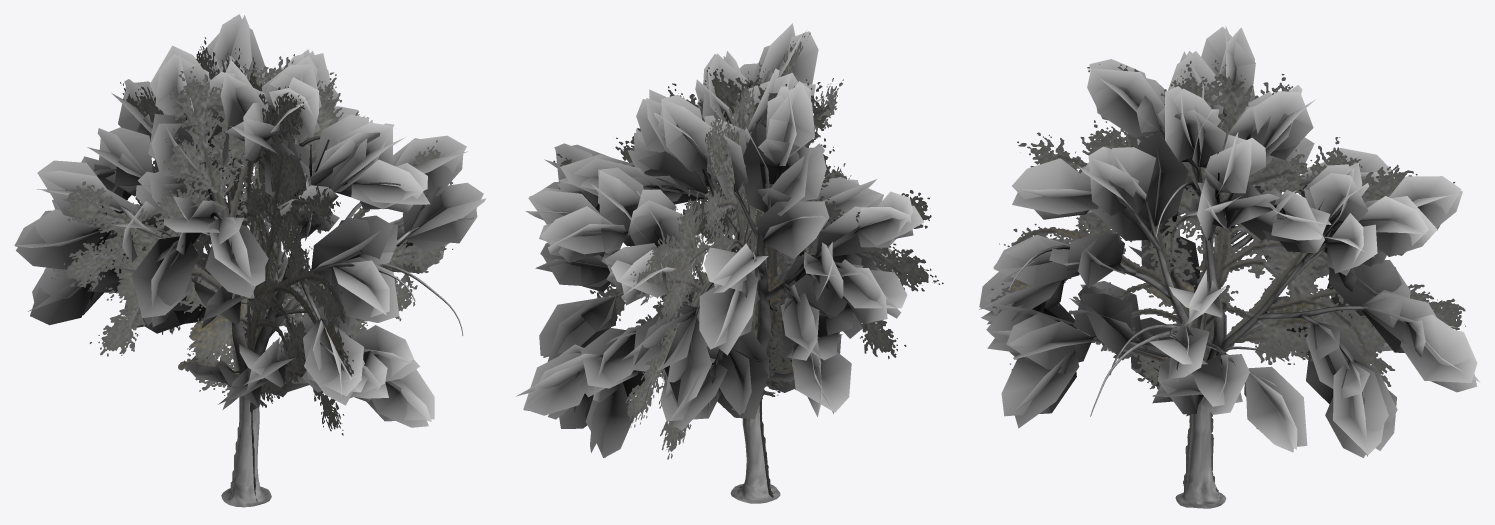
The model's file is Oak_01.fbx.
The picture shows the model from 3 angles, left to right: view 1: azimuth 30°, elevation 25°; view 2: azimuth 150°, elevation 25°; view 3: azimuth 270°, elevation 25°; orthographic projection. The views are drawn at different scales.
Visible parts, largest first — view 1: Oak_Bark_01_LOD0, Billboard_Oak_01; view 2: Oak_Bark_01_LOD0, Billboard_Oak_01; view 3: Oak_Bark_01_LOD0, Billboard_Oak_01.
Boxes of the visible parts, box(x1,y1,x2,y2) form: Oak_Bark_01_LOD0: box(14, 14, 486, 507); Billboard_Oak_01: box(51, 37, 452, 502); Oak_Bark_01_LOD0: box(515, 23, 923, 503); Billboard_Oak_01: box(553, 32, 943, 498); Oak_Bark_01_LOD0: box(979, 26, 1480, 508); Billboard_Oak_01: box(991, 59, 1465, 498).
Size of what is drawn, in the model's own units: 910 by 908 by 922.
